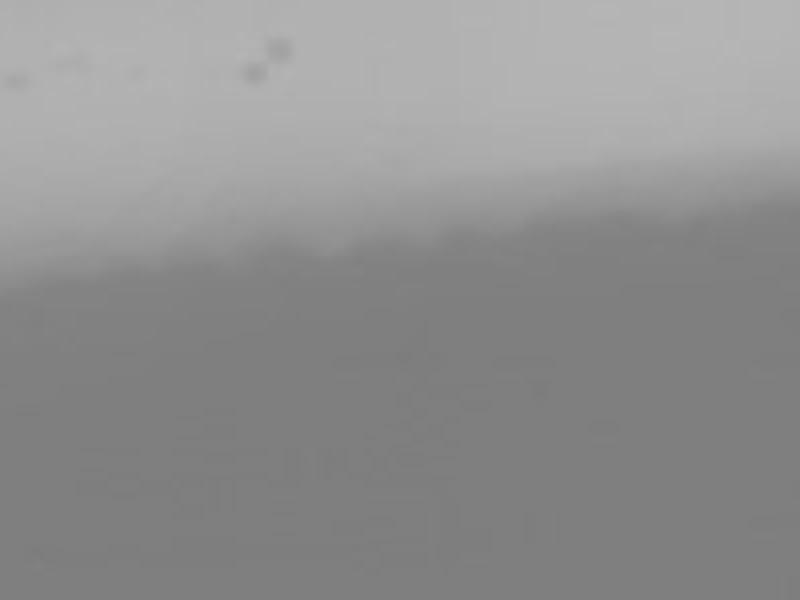defect: (58, 49, 91, 73), (265, 37, 292, 61), (242, 58, 267, 82), (2, 68, 30, 88)
